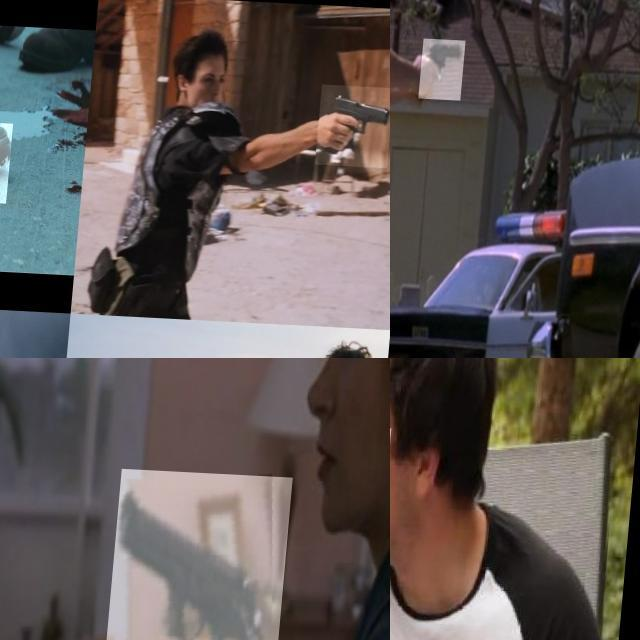-: (390, 420, 445, 640)
gun-knife-thesis - v11 Yolov5 augmented: (105, 466, 298, 640), (0, 114, 83, 201), (318, 78, 390, 161), (423, 37, 469, 100)
